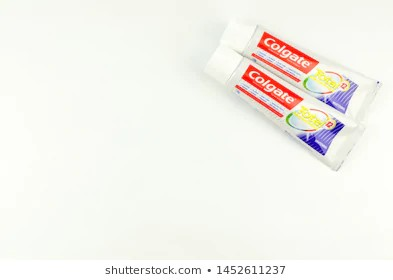colgate-total-150gm: (205, 40, 361, 170), (219, 9, 384, 124)
